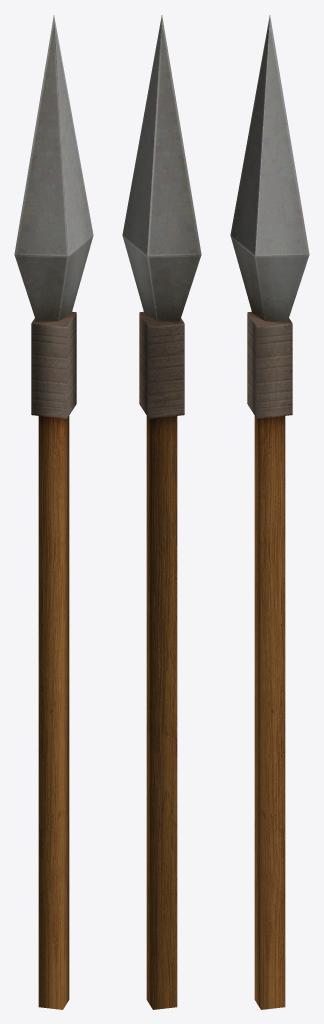
The model's file is Spear.FBX.
The picture shows the model from 3 angles, left to right: view 1: azimuth 30°, elevation 25°; view 2: azimuth 150°, elevation 25°; view 3: azimuth 330°, elevation 25°; orthographic projection.
Visible parts, largest first — view 1: Spear; view 2: Spear; view 3: Spear.
Boxes of the visible parts, x1,y1,x2,y2 form: Spear: (14,15,93,1009); Spear: (122,15,201,1009); Spear: (230,15,309,1009).
Bounding box in the file's own units: 25.79 × 308 × 16.66.
